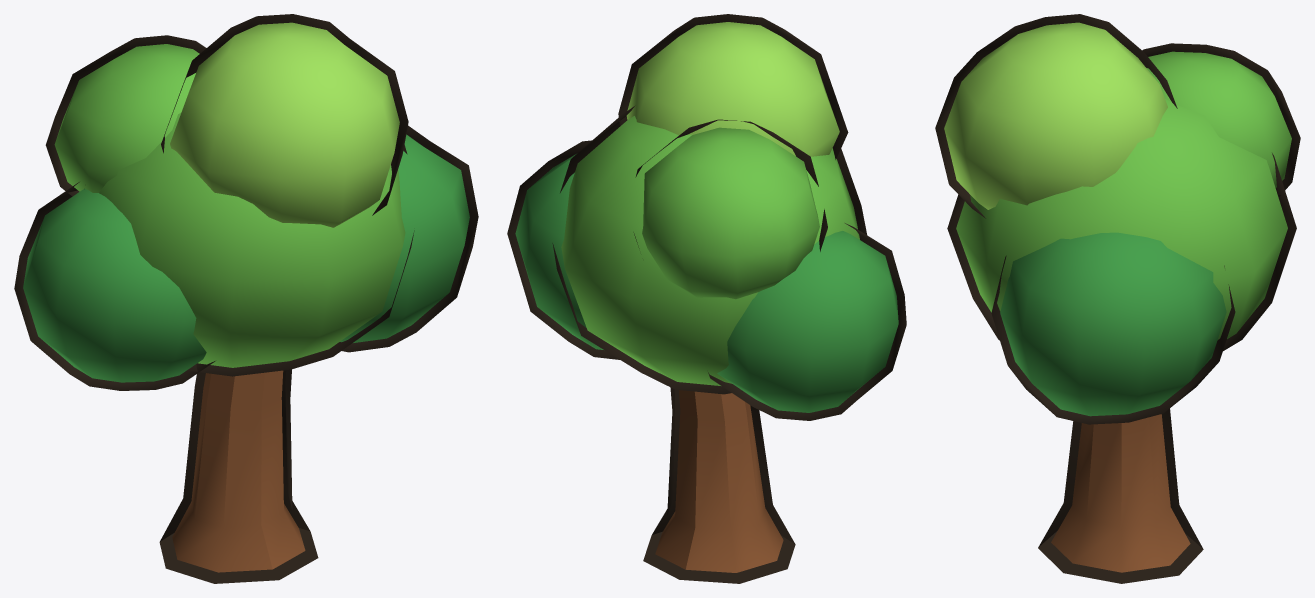
The model's file is tree-2.glb.
3 renders of one model, left to right at view 1: azimuth 30°, elevation 25°; view 2: azimuth 150°, elevation 25°; view 3: azimuth 270°, elevation 25°, orthographic. The views are drawn at different scales.
Visible parts, largest first — view 1: tree-2; view 2: tree-2; view 3: tree-2.
Boxes of the visible parts, bbox=[...] form: tree-2: bbox=[14, 14, 478, 583]; tree-2: bbox=[507, 14, 906, 583]; tree-2: bbox=[935, 14, 1300, 583].
Size of the model in its own units: 2.31 by 2.9 by 1.81.
